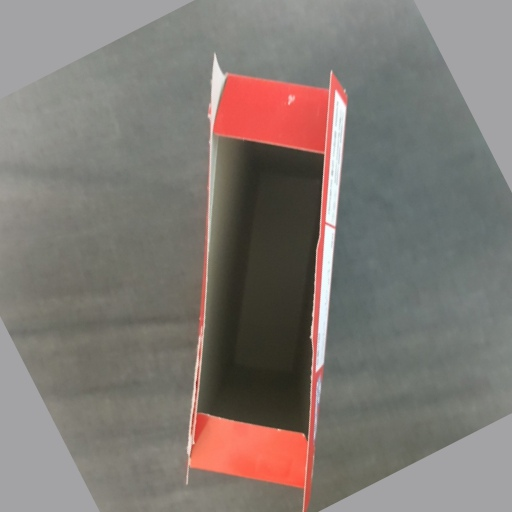Paper_0: (181, 46, 352, 512)
